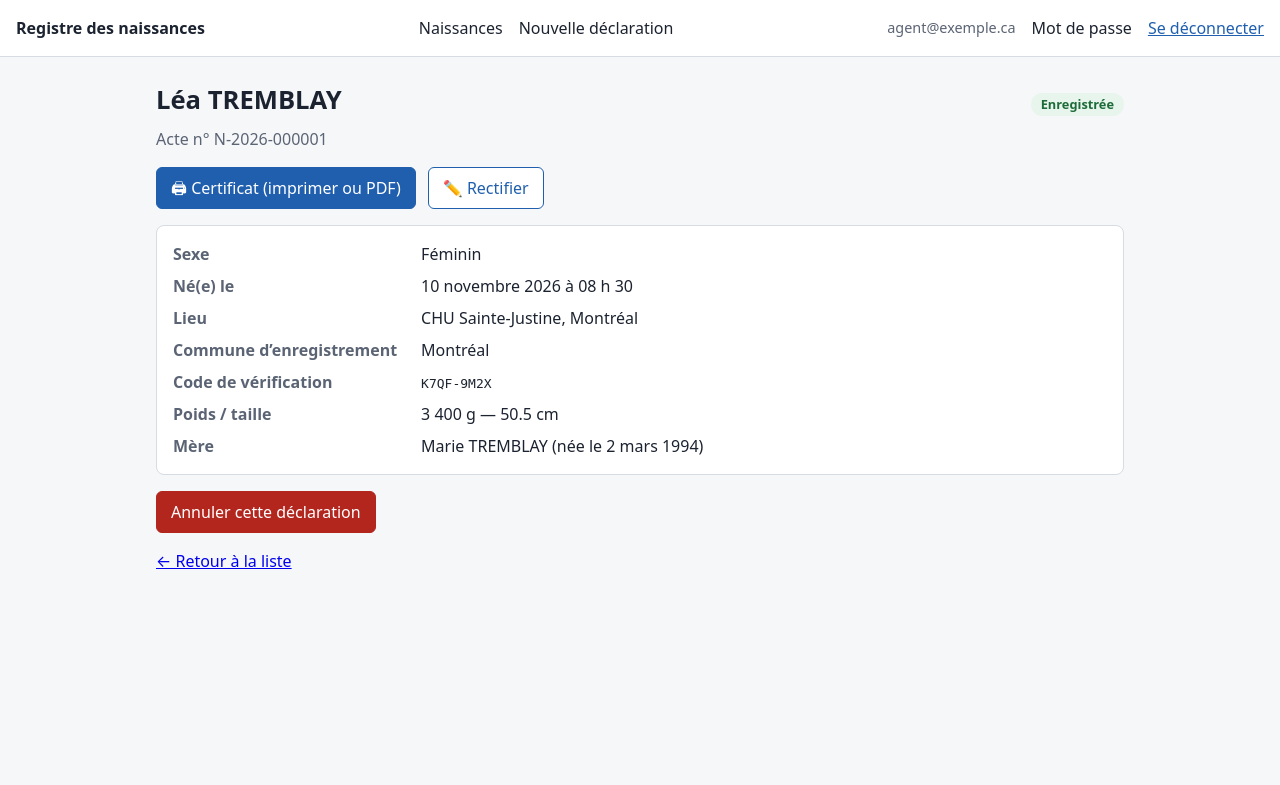
Détail et annulation › annule de façon optimiste : le statut change AVANT la réponse du serveur
Click the button "Annuler cette déclaration" at [266, 512], box [156,491,376,533]
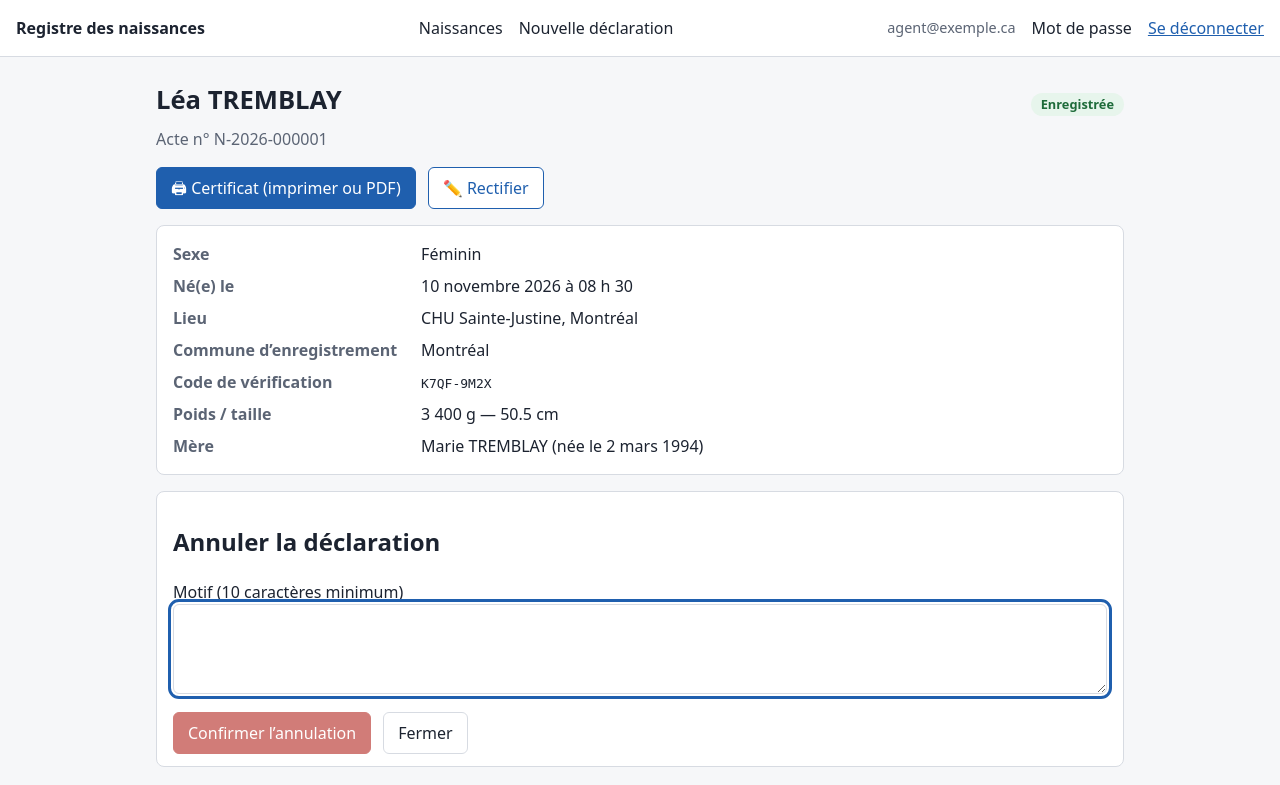
Type "Doublon de saisie constaté" into the text box labelled "Motif (10 caractères minimum)" at [640, 649], box [173,604,1107,694]
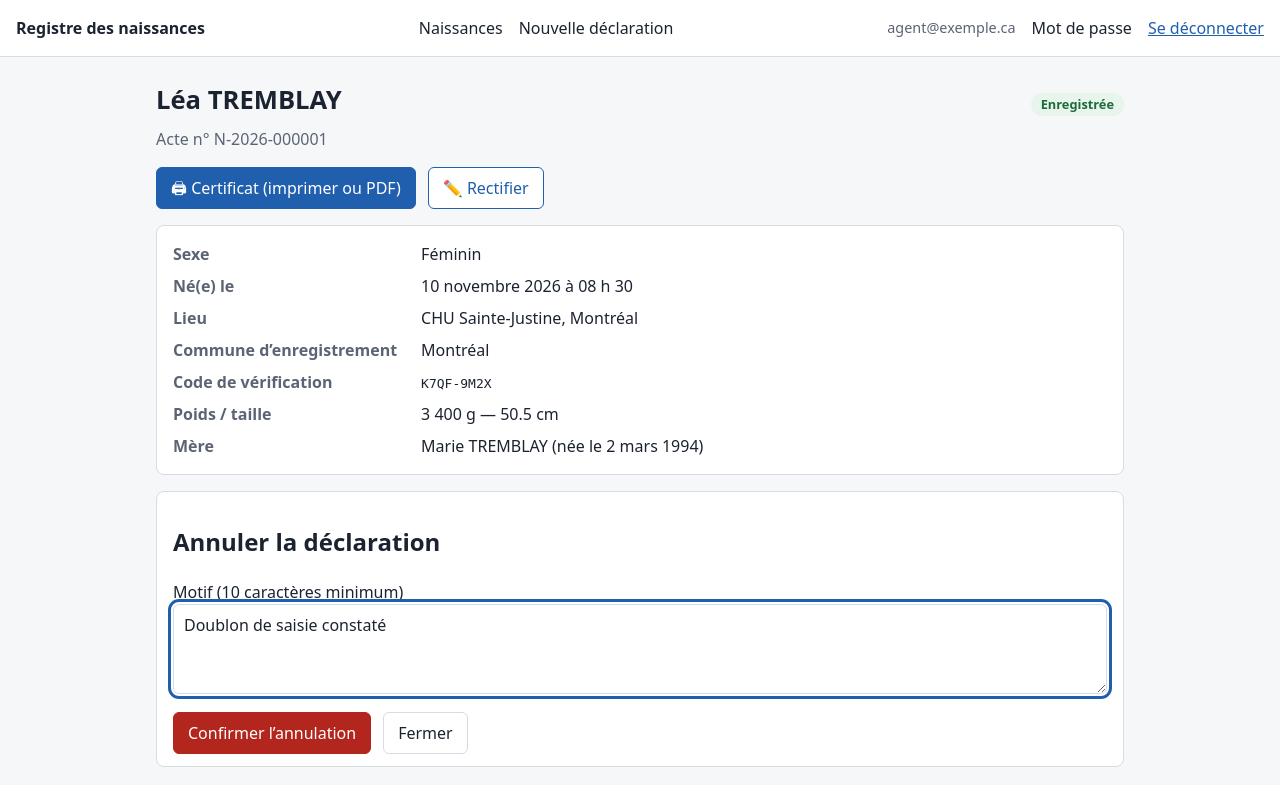
Click the button "Confirmer l’annulation" at [272, 733], box [173,712,371,754]
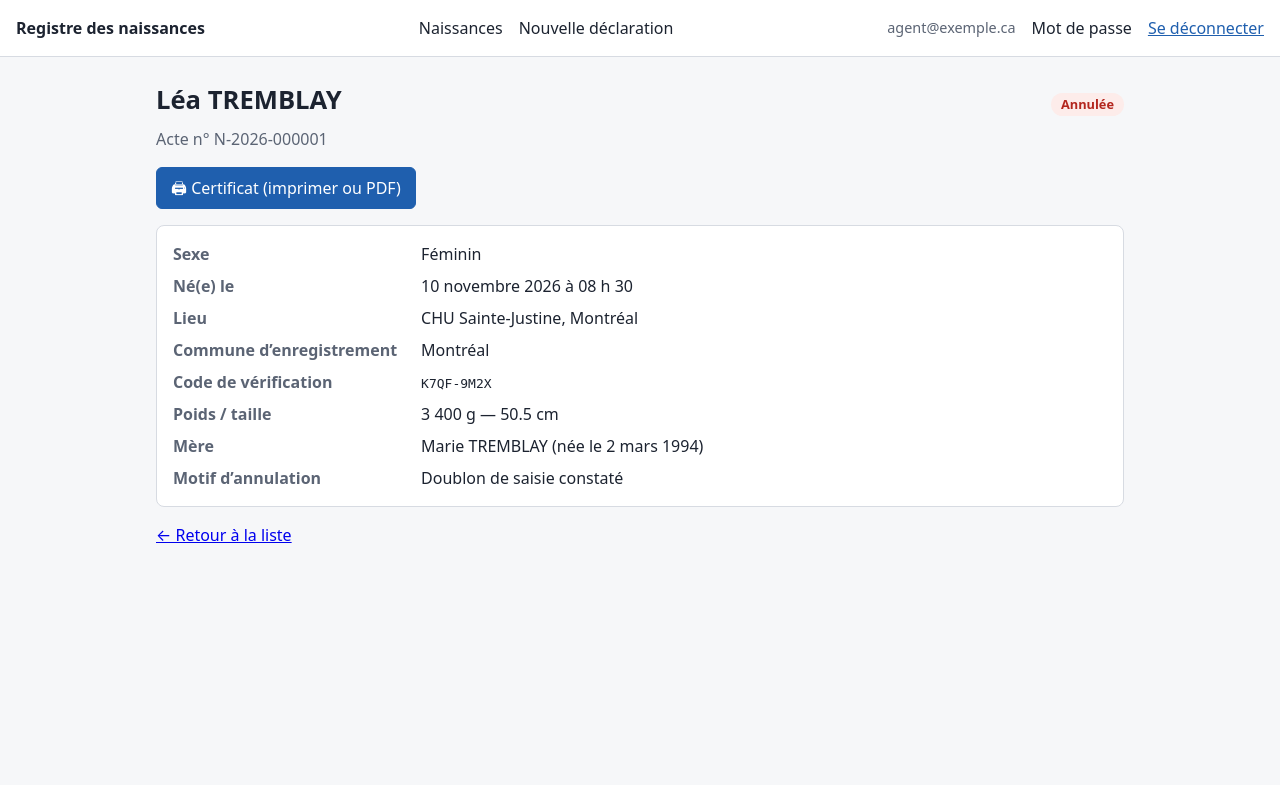
Now the text "Annulée" is shown, box [1051,93,1124,116]
Now the text "Doublon de saisie constaté" is shown, box [421,467,623,489]
